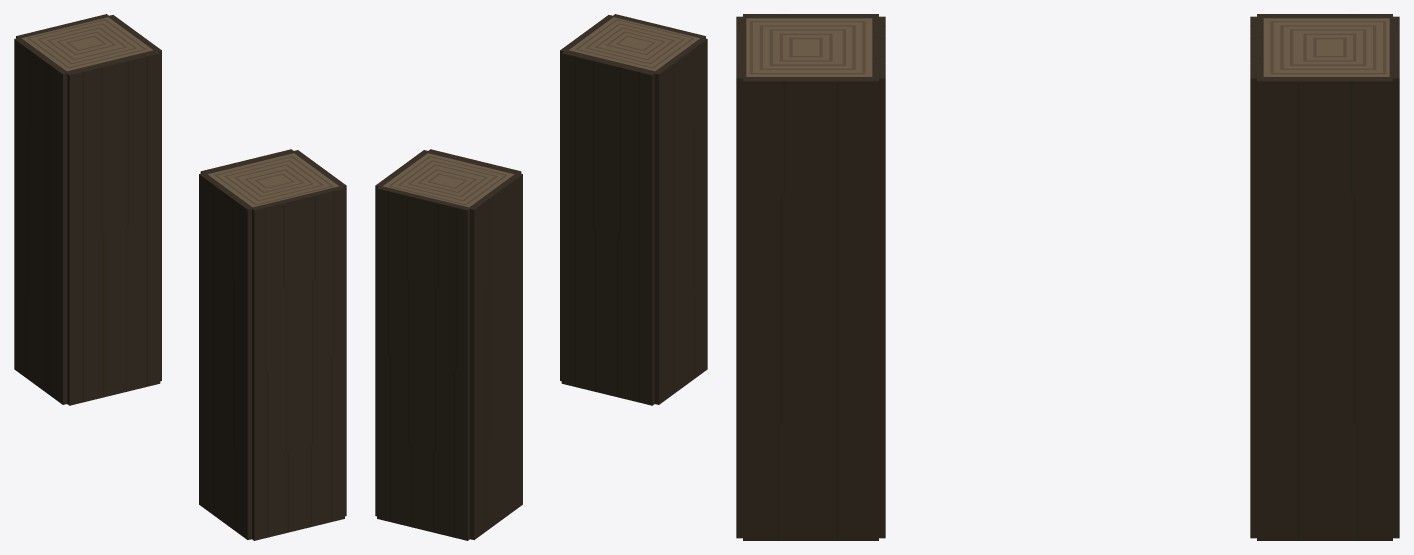
File: Gate-Walls.obj
3 views of the same model, side by side, from view 1: azimuth 30°, elevation 25°; view 2: azimuth 150°, elevation 25°; view 3: azimuth 270°, elevation 25° (orthographic). The views are drawn at different scales.
Bounding box in the file's own units: 4.8 × 15.3 × 20.
Materials: 1 (1 with a texture image).
